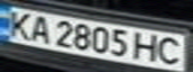0: (90, 25, 112, 55)
2: (51, 17, 75, 48)
5: (109, 27, 133, 58)
8: (69, 21, 93, 52)
A: (24, 14, 54, 44)
C: (154, 34, 187, 66)
H: (130, 30, 163, 63)
K: (3, 8, 36, 41)
